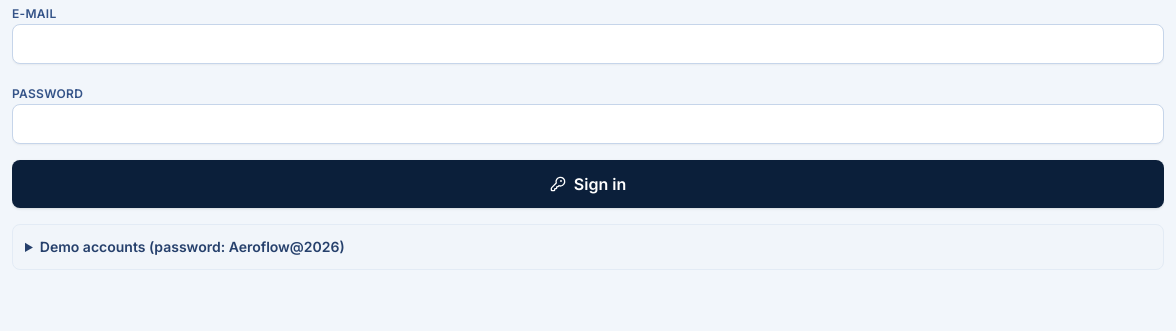
LoginForm › shows validation errors without calling the API
Click the button "Sign in": (588, 184) [12,160,1164,208]
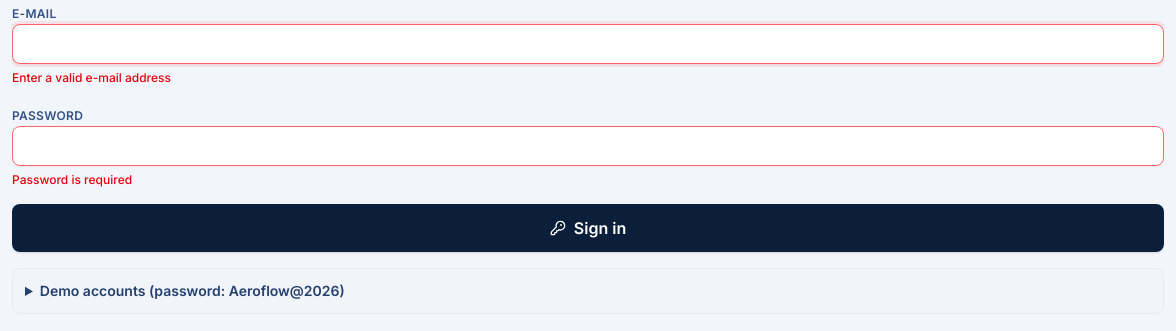
Expected: the text "Enter a valid e-mail address" is shown, [12,70,171,85]
Expected: the text "Password is required" is shown, [12,172,132,187]
